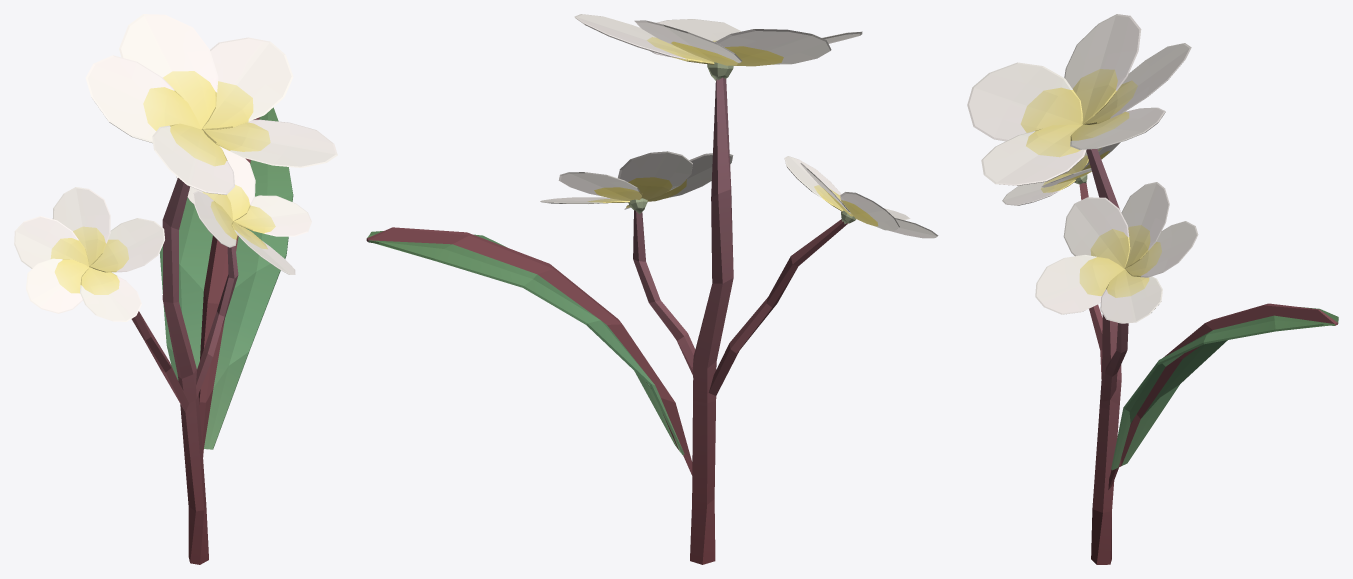
File: UnknownFlowerName01_White.fbx
3 renders of one model, left to right at view 1: azimuth 30°, elevation 25°; view 2: azimuth 150°, elevation 25°; view 3: azimuth 270°, elevation 25°, orthographic. The views are drawn at different scales.
Visible parts, largest first — view 1: UnknownFlowerName01_White; view 2: UnknownFlowerName01_White; view 3: UnknownFlowerName01_White.
Boxes of the visible parts, left/top/right/bottom form: UnknownFlowerName01_White: left=14, top=14, right=337, bottom=564; UnknownFlowerName01_White: left=366, top=14, right=938, bottom=564; UnknownFlowerName01_White: left=967, top=14, right=1338, bottom=564.
Bounding box in the file's own units: 30.38 × 39.84 × 26.37.
